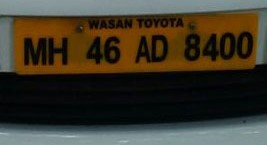numberplate: (12, 13, 258, 76)
